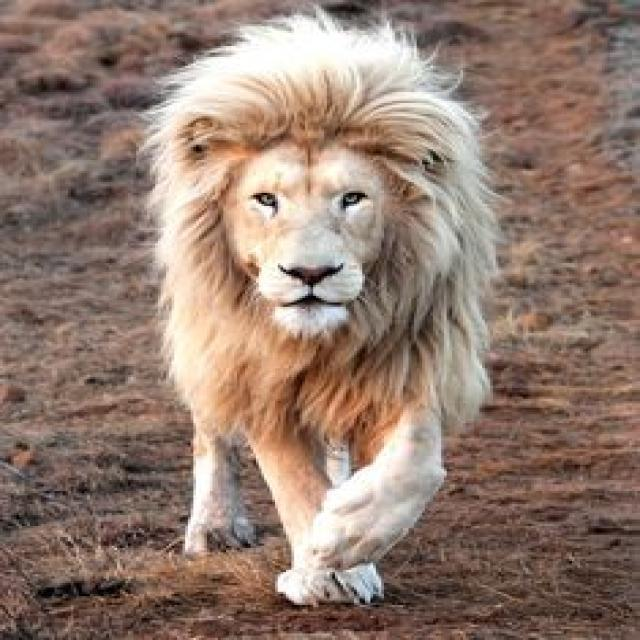lions: (22, 4, 540, 625)
